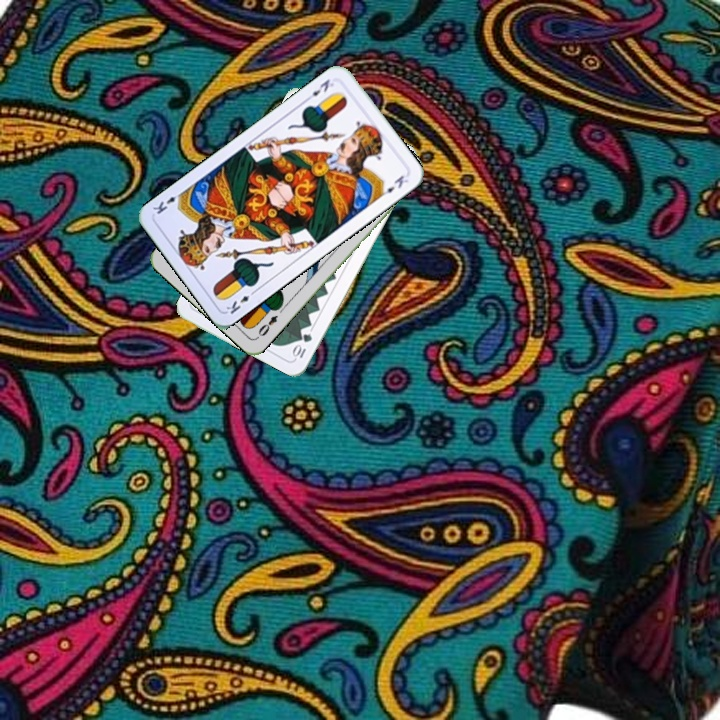EK: (222, 286, 259, 317), (302, 75, 337, 104)
EO: (253, 311, 280, 341)
G10: (289, 329, 315, 361)
